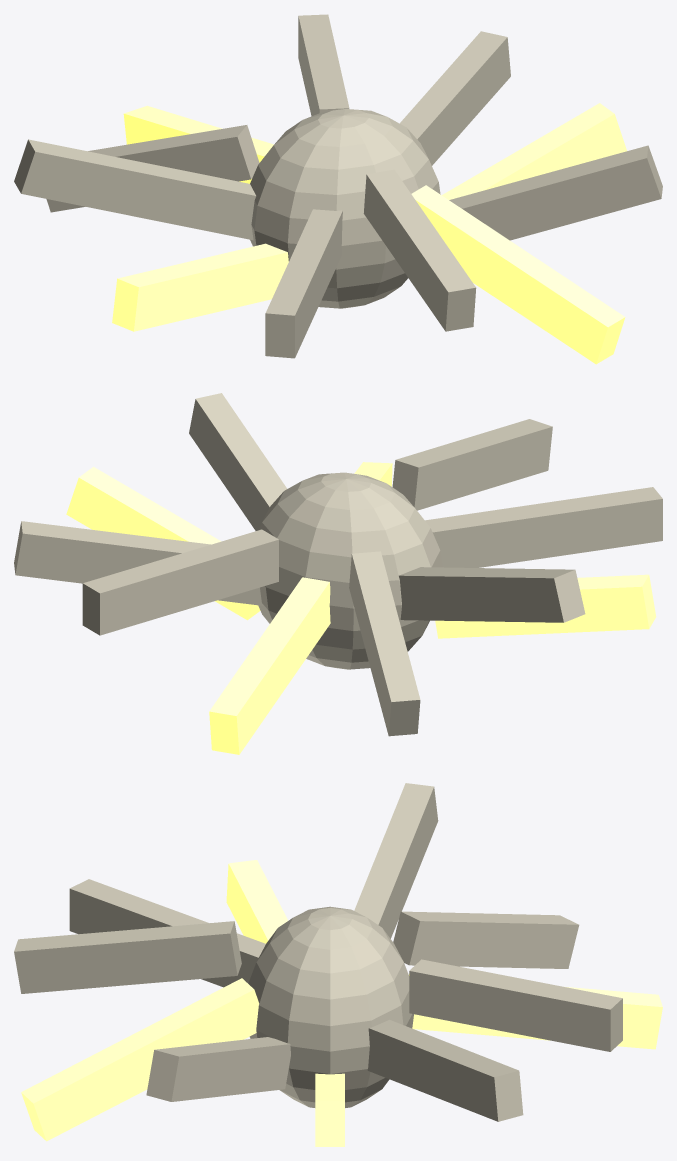
File: bone_shatter.glb
The picture shows the model from 3 angles, top to bottom: view 1: azimuth 30°, elevation 25°; view 2: azimuth 150°, elevation 25°; view 3: azimuth 270°, elevation 25°; orthographic projection.
Parts seen in each view (by area): view 1: bone shatter core, bone shard 5, bone shard 9, bone shard 10, bone shard 6, bone shard 8, bone shard 1, bone shard 7, bone shard 0, bone shard 4, bone shard 2, bone shard 3; view 2: bone shatter core, bone shard 7, bone shard 2, bone shard 5, bone shard 3, bone shard 8, bone shard 1, bone shard 4, bone shard 10, bone shard 6, bone shard 0, bone shard 9; view 3: bone shatter core, bone shard 9, bone shard 8, bone shard 2, bone shard 4, bone shard 1, bone shard 10, bone shard 5, bone shard 7, bone shard 3, bone shard 6, bone shard 0.
Boxes of the visible parts, <box> form: bone shatter core: <box>250,109,440,308</box>; bone shard 5: <box>14,139,256,240</box>; bone shard 9: <box>411,185,625,364</box>; bone shard 10: <box>449,145,662,240</box>; bone shard 6: <box>112,243,288,331</box>; bone shard 8: <box>363,169,476,331</box>; bone shard 1: <box>400,31,510,165</box>; bone shard 7: <box>265,209,342,358</box>; bone shard 0: <box>442,103,626,199</box>; bone shard 4: <box>46,125,259,212</box>; bone shard 2: <box>298,14,349,116</box>; bone shard 3: <box>123,105,273,183</box>; bone shatter core: <box>258,472,442,669</box>; bone shard 7: <box>425,487,662,567</box>; bone shard 2: <box>82,529,278,635</box>; bone shard 5: <box>399,567,585,622</box>; bone shard 3: <box>209,577,330,754</box>; bone shard 8: <box>392,419,552,510</box>; bone shard 1: <box>14,521,262,605</box>; bone shard 4: <box>349,551,420,736</box>; bone shard 10: <box>189,393,286,530</box>; bone shard 6: <box>435,574,656,638</box>; bone shard 0: <box>66,466,260,620</box>; bone shard 9: <box>354,462,392,486</box>; bone shatter core: <box>248,906,413,1107</box>; bone shard 9: <box>21,978,259,1141</box>; bone shard 8: <box>14,921,241,993</box>; bone shard 2: <box>409,959,622,1051</box>; bone shard 4: <box>393,911,579,968</box>; bone shard 1: <box>367,1019,523,1121</box>; bone shard 10: <box>146,1037,290,1101</box>; bone shard 5: <box>354,783,438,938</box>; bone shard 7: <box>69,879,265,987</box>; bone shard 3: <box>409,974,662,1049</box>; bone shard 6: <box>226,860,288,943</box>; bone shard 0: <box>315,1073,344,1146</box>.
Size of the model in its own units: 0.7524 by 0.2425 by 0.7623.
